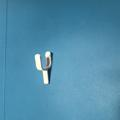u-shape: (34, 51, 53, 87)
